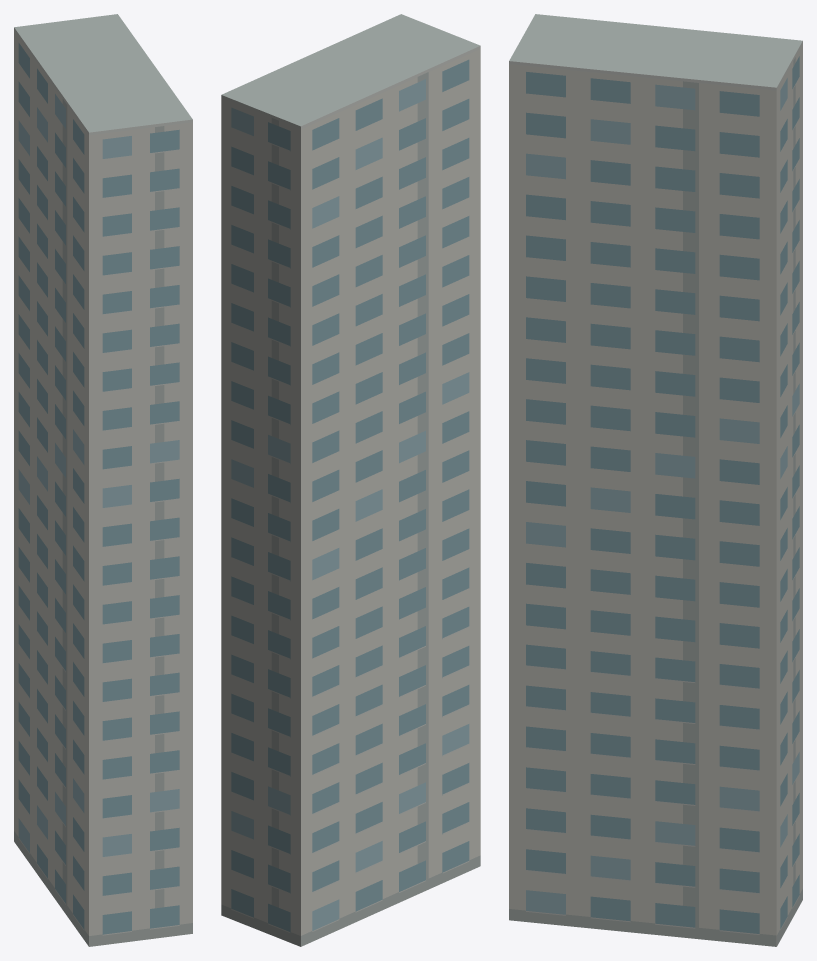
File: residential-f0f8c9d6-c423-4f46-9b34-1a588dd442b5.glb
3 views of the same model, side by side, from view 1: azimuth 30°, elevation 25°; view 2: azimuth 150°, elevation 25°; view 3: azimuth 270°, elevation 25° (orthographic). The views are drawn at different scales.
Parts seen in each view (by area): view 1: residential-f0f8c9d6-c423-4f46-9b34-1a588dd442b5.tmp; view 2: residential-f0f8c9d6-c423-4f46-9b34-1a588dd442b5.tmp; view 3: residential-f0f8c9d6-c423-4f46-9b34-1a588dd442b5.tmp.
Part boxes in pixels (x1,y1,x2,y2): residential-f0f8c9d6-c423-4f46-9b34-1a588dd442b5.tmp: (14, 14, 192, 946); residential-f0f8c9d6-c423-4f46-9b34-1a588dd442b5.tmp: (221, 14, 480, 946); residential-f0f8c9d6-c423-4f46-9b34-1a588dd442b5.tmp: (509, 14, 802, 946).
Size of the model in its own units: 12.7 by 69 by 21.4.
